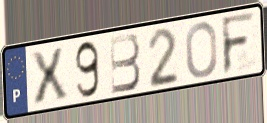2: (147, 26, 181, 90)
9: (73, 39, 101, 100)
B: (108, 31, 143, 96)
F: (220, 9, 257, 77)
O: (184, 20, 219, 80)
X: (28, 45, 70, 107)
